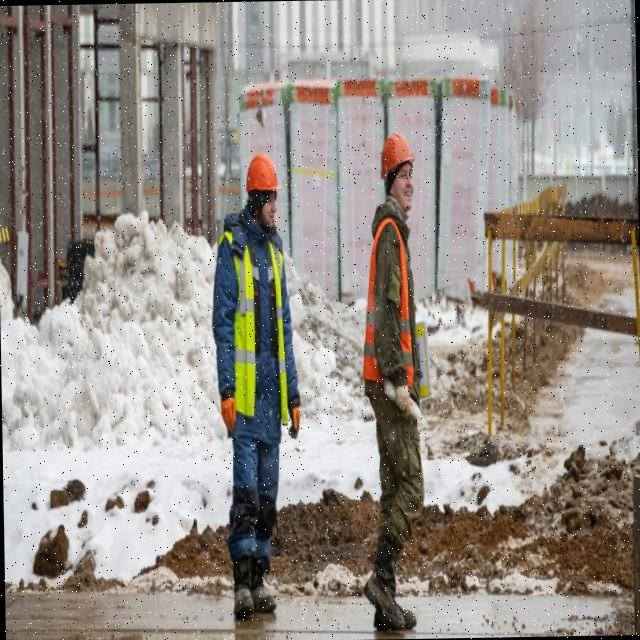Helmet: (245, 153, 285, 199), (380, 132, 416, 180)
Jacket: (223, 208, 291, 429), (366, 191, 418, 386)
